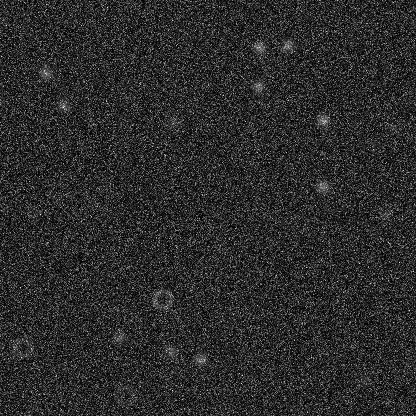Ring: (10, 335, 34, 359), (45, 178, 69, 202), (112, 383, 136, 407), (150, 287, 174, 311), (285, 211, 309, 235)
Spot: (377, 206, 393, 222), (280, 37, 296, 53), (37, 65, 53, 81), (112, 329, 128, 345), (385, 119, 401, 135), (55, 97, 71, 113), (163, 344, 179, 360), (23, 201, 39, 217), (165, 114, 181, 130), (192, 350, 208, 366), (27, 212, 43, 228), (315, 112, 331, 128), (251, 39, 267, 55), (314, 178, 330, 194), (250, 78, 266, 94), (356, 372, 372, 388)
